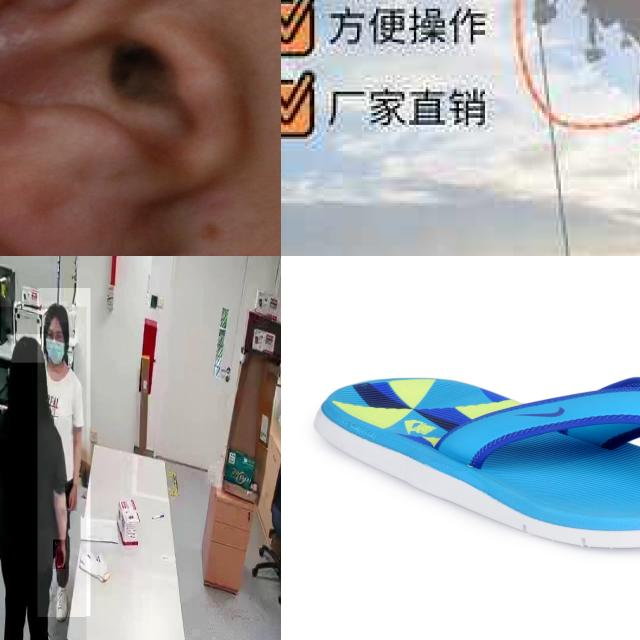No_Ear-Protection: (0, 0, 257, 256)
Sandals: (308, 373, 640, 552)
face_mask: (42, 332, 64, 368)
hand_noglove: (53, 540, 66, 570), (65, 484, 77, 512)
head_nohelmet: (12, 334, 44, 364), (44, 302, 68, 324)
person: (0, 306, 87, 640), (37, 288, 91, 617)
shoes: (52, 584, 70, 626)
